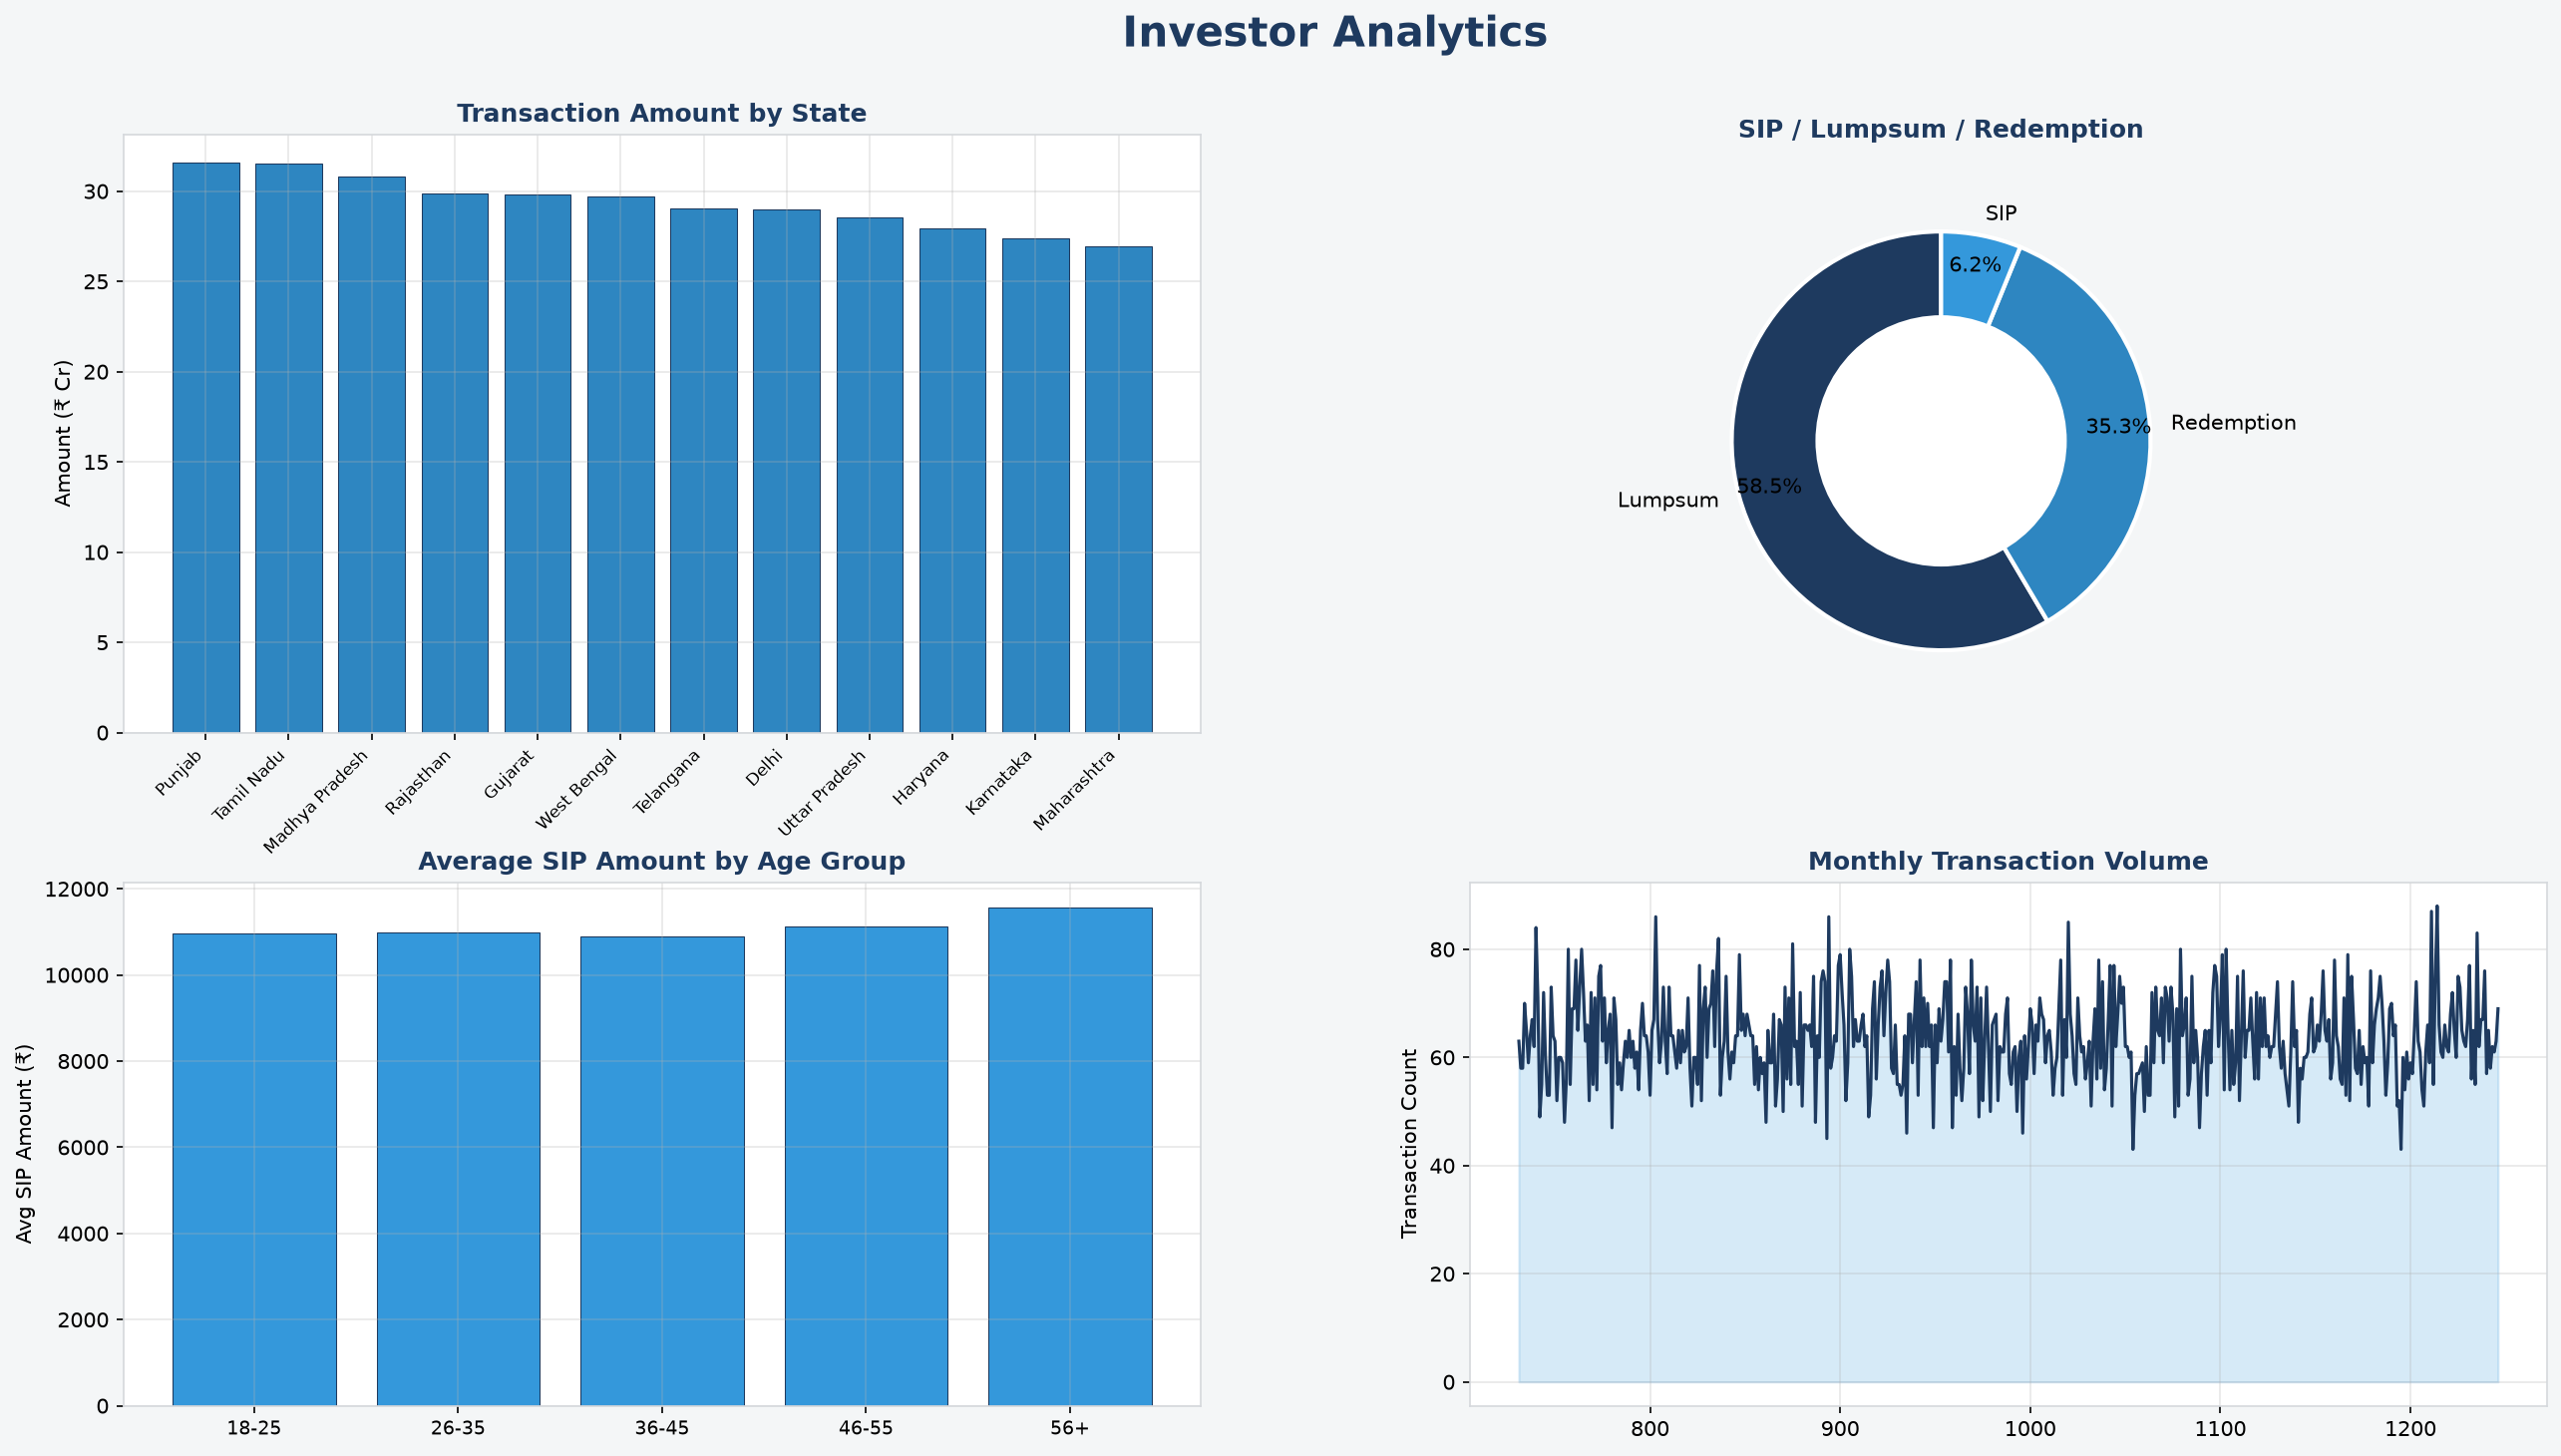

The dashboard page shown, as its layout file describes it:
{"tool":"powerbi","page":{"name":"Investor Analytics","canvas":[1280,720],"ordinal":2},"visuals":[{"type":"clusteredColumnChart","fields":{"Category":["fact_transactions.state"],"Y":["Sum(fact_transactions.amount_inr)"]},"box":[9.6,0,337.6,296.4],"z":0},{"type":"donutChart","fields":{"Category":["fact_transactions.transaction_type"],"Y":["Sum(fact_transactions.amount_inr)"]},"box":[347.2,0,338.9,296.4],"z":1000},{"type":"clusteredColumnChart","fields":{"Category":["fact_transactions.age_group"],"Y":["fact_aum.Avg_SIP_Age_Group"]},"box":[10,306,338,296],"z":2000},{"type":"lineChart","fields":{"Y":["fact_aum.Transaction_Volume"],"Category":["dim_date.year_month"]},"box":[348,306,338,296],"z":3000},{"type":"slicer","fields":{"Values":["fact_transactions.state"]},"box":[696,0,339,296],"z":4000},{"type":"slicer","fields":{"Values":["fact_transactions.age_group"]},"box":[696,306,339,296],"z":5000},{"type":"slicer","fields":{"Values":["fact_transactions.city_tier"]},"box":[1045,0,235,296],"z":6000}]}

Visuals, with their boxes in screenshot pixels (x1, y1, x2, y2), scaled from the page's 1280x720 canvas onto the 2561x1456 screenshot:
clusteredColumnChart - fact_transactions.state x Sum(fact_transactions.amount_inr): BBox(19, 0, 695, 599)
donutChart - fact_transactions.transaction_type x Sum(fact_transactions.amount_inr): BBox(695, 0, 1372, 599)
clusteredColumnChart - fact_transactions.age_group x fact_aum.Avg_SIP_Age_Group: BBox(20, 618, 696, 1218)
lineChart - fact_aum.Transaction_Volume x dim_date.year_month: BBox(696, 618, 1372, 1218)
slicer - fact_transactions.state: BBox(1392, 0, 2070, 598)
slicer - fact_transactions.age_group: BBox(1392, 618, 2070, 1218)
slicer - fact_transactions.city_tier: BBox(2091, 0, 2560, 598)
